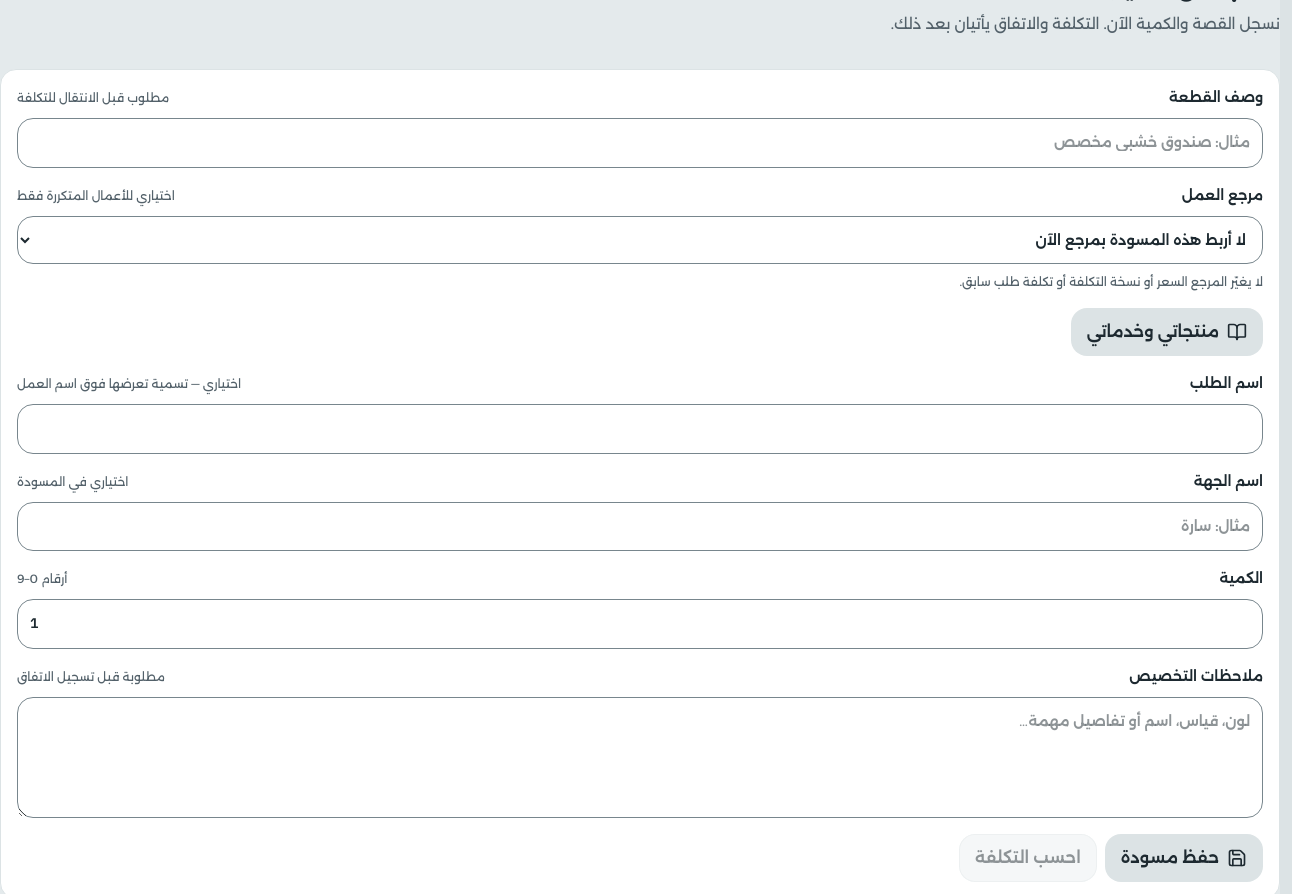
Scenario: the empty intent editor creates the draft only on first real input (U-06, §٥-١) › refuses to persist an empty draft from the save button
(page scrolled)
Click the button "حفظ مسودة": (1184, 858) [1105,834,1263,882]
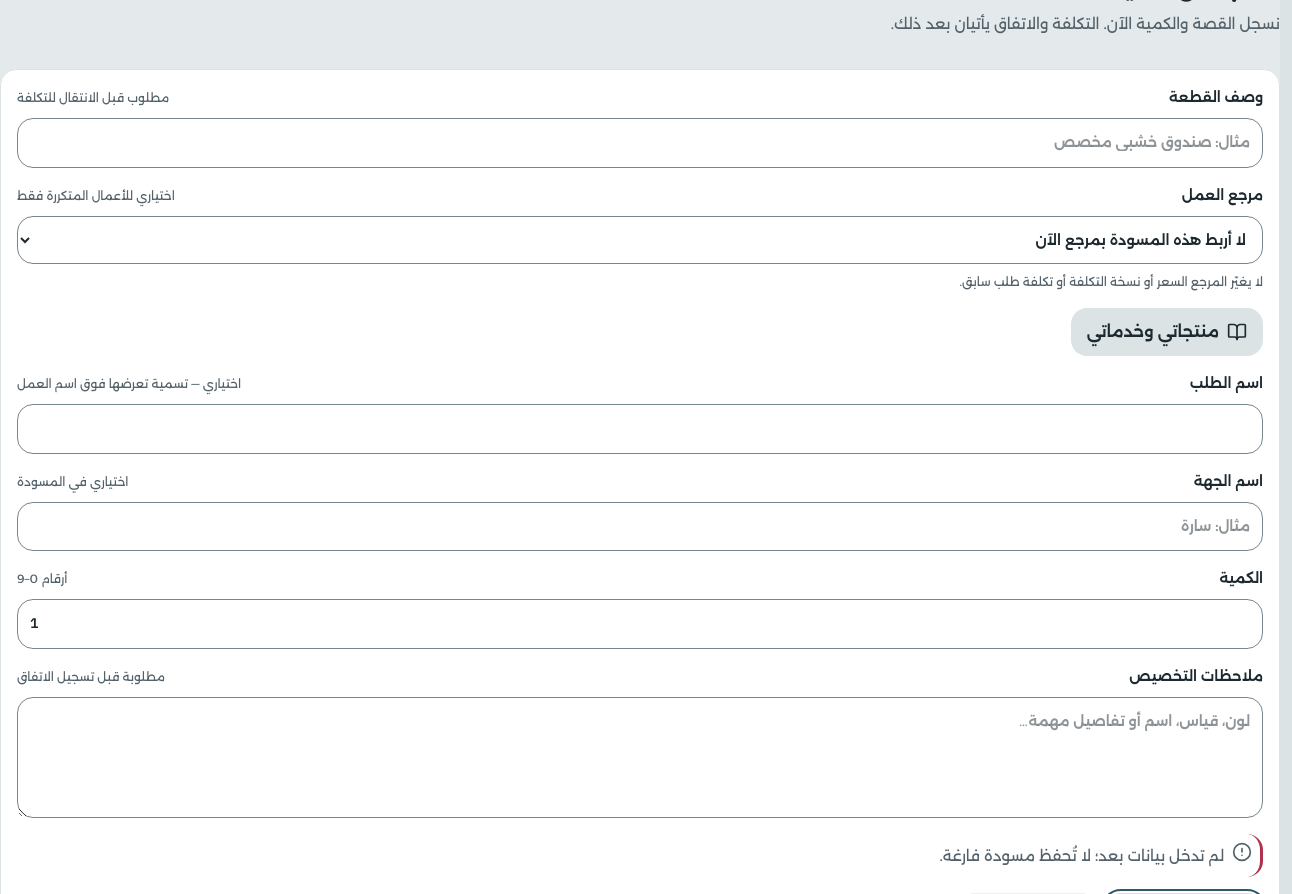
Result: the text "لم تدخل بيانات بعد؛ لا تُحفظ مسودة فارغة." is shown at [940,842,1224,869]
